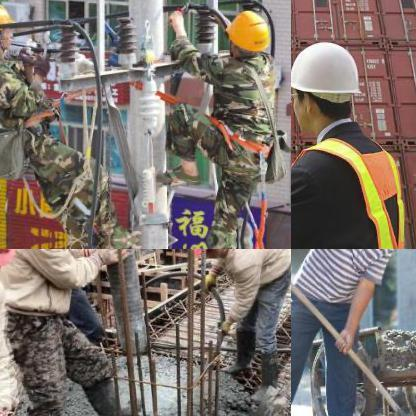Helmet: (291, 34, 370, 139), (224, 4, 272, 56), (0, 0, 18, 55), (183, 249, 237, 265)
